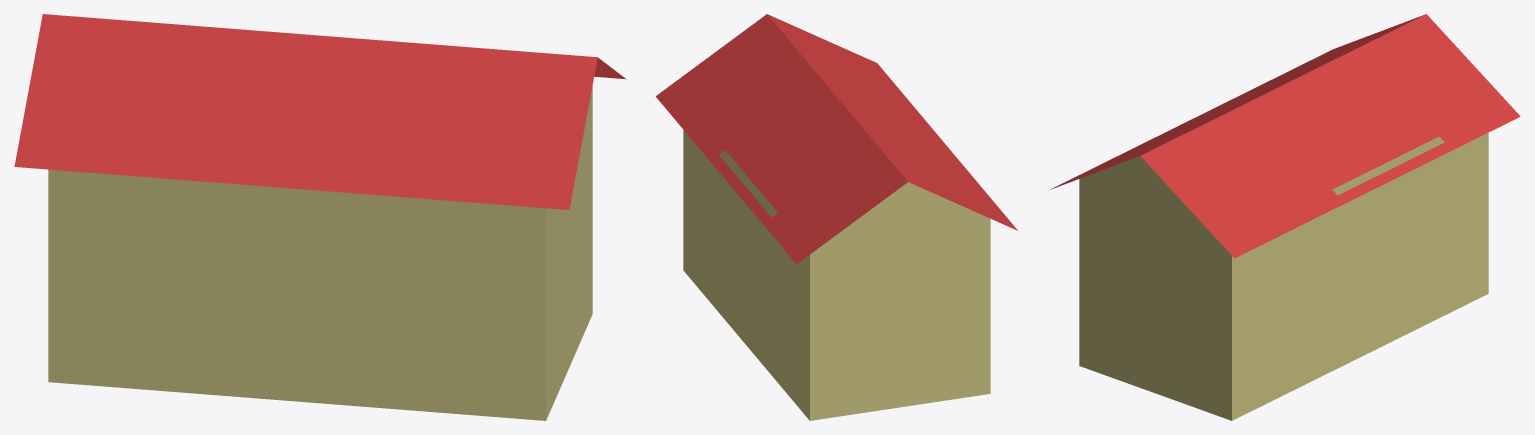
The picture shows the model from 3 angles, left to right: view 1: azimuth 30°, elevation 25°; view 2: azimuth 150°, elevation 25°; view 3: azimuth 270°, elevation 25°; orthographic projection. The views are drawn at different scales.
Size of the model in its own units: 21.7 by 20.75 by 11.83.
